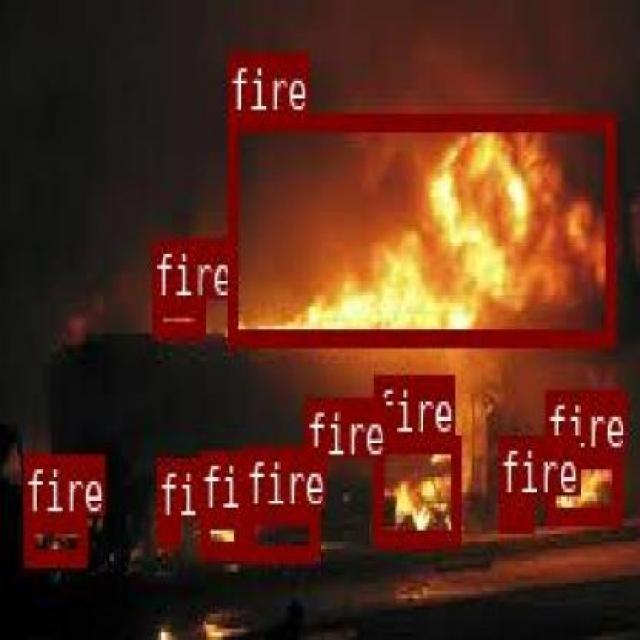fire: (228, 110, 614, 344), (373, 435, 459, 543), (544, 447, 620, 521), (244, 506, 318, 560), (23, 514, 85, 562), (197, 510, 242, 553), (151, 298, 204, 334), (497, 496, 531, 530), (155, 518, 178, 546), (304, 457, 324, 477)
